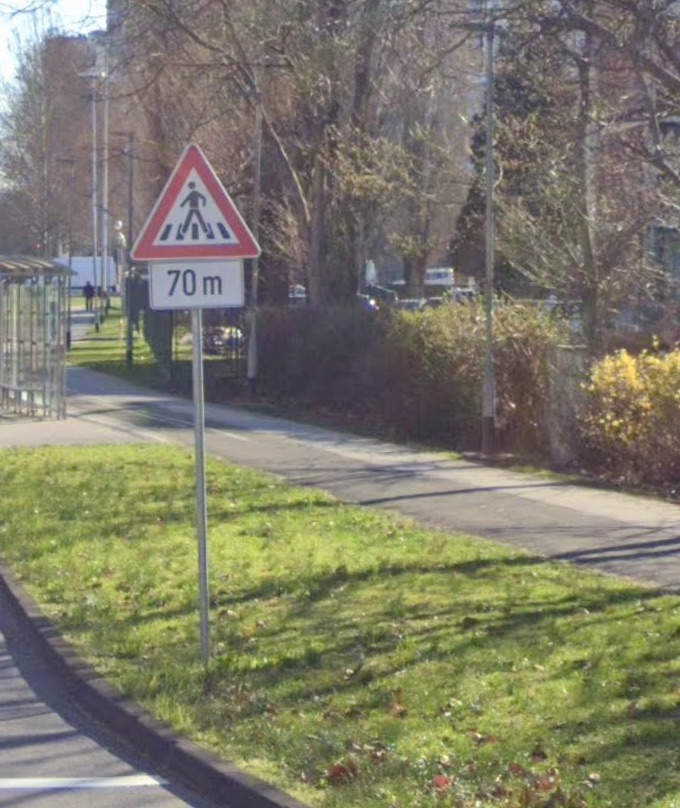Približavanje pješačkom prijelazu: (129, 143, 261, 260)
